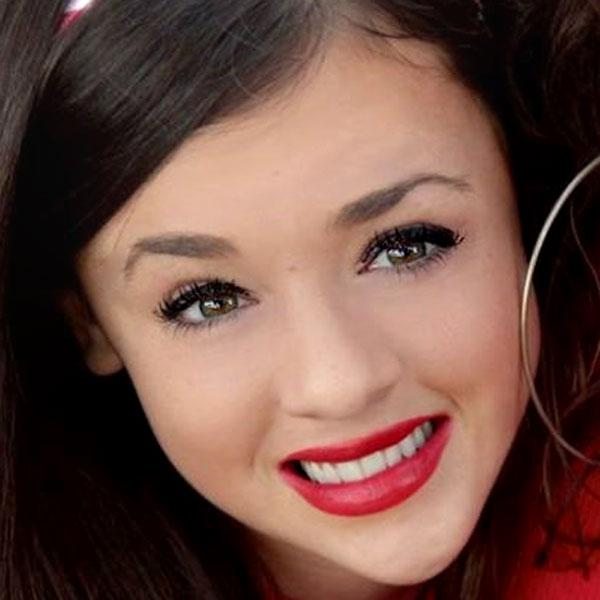Eyes: (339, 205, 468, 291), (149, 269, 268, 342)
